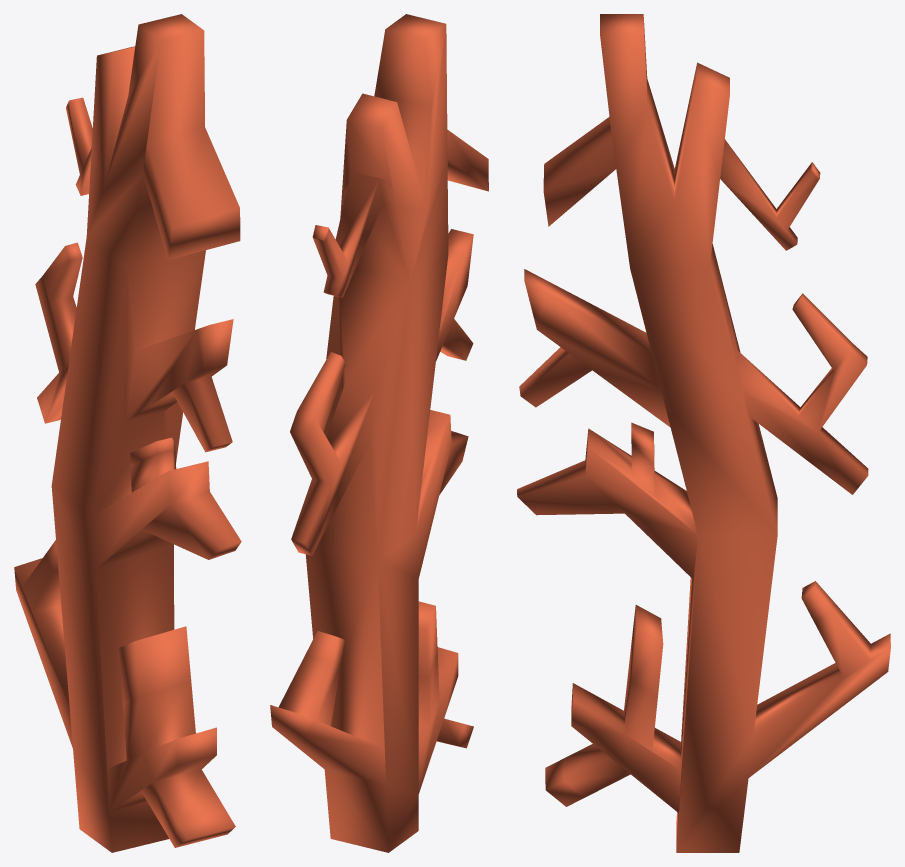
The model's file is Coral1.glb.
3 views of the same model, side by side, from view 1: azimuth 30°, elevation 25°; view 2: azimuth 150°, elevation 25°; view 3: azimuth 270°, elevation 25° (orthographic). The views are drawn at different scales.
Visible parts, largest first — view 1: Cube; view 2: Cube; view 3: Cube.
Part boxes in pixels (x1,y1,x2,y2): Cube: (14,14,241,852); Cube: (270,14,488,852); Cube: (517,14,890,852).
Bounding box in the file's own units: 0.613 × 6.1 × 2.54.
